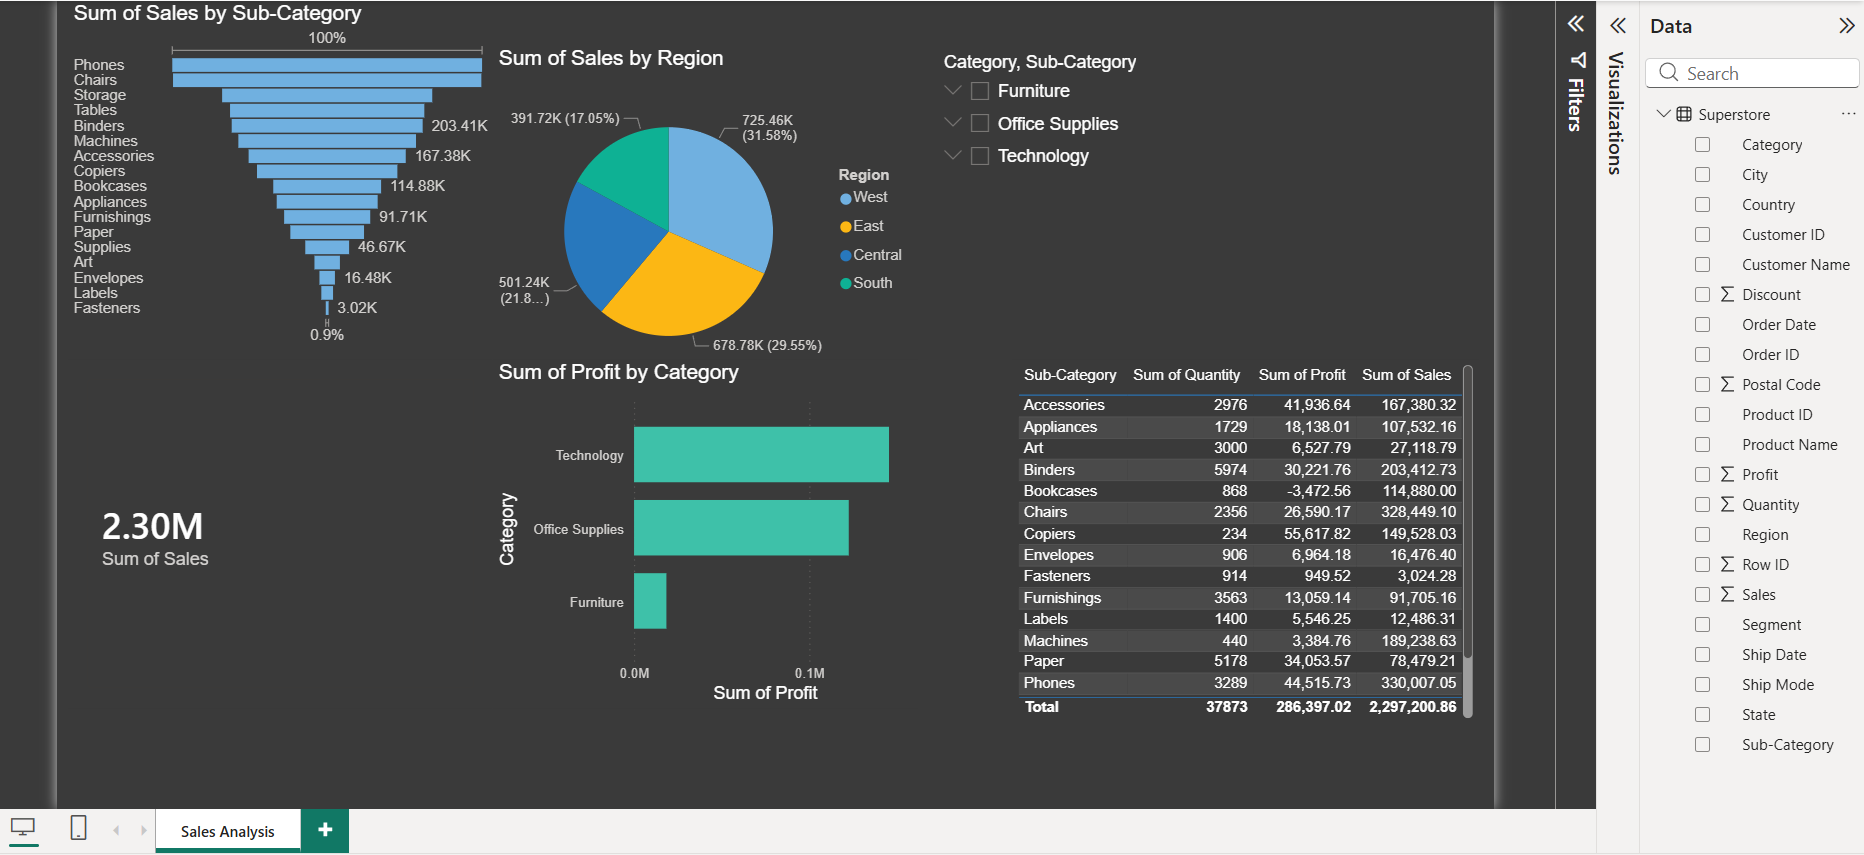

What the dashboard file says about the page in this screenshot:
{"tool":"powerbi","page":{"name":"Page 1","canvas":[1280,720],"ordinal":0},"visuals":[{"type":"funnel","fields":{"Category":["Superstore.Sub-Category"],"Y":["Sum(Superstore.Sales)"]},"box":[9.6,0,378.7,310.1],"z":0},{"type":"cardVisual","fields":{"Data":["Sum(Superstore.Sales)"]},"box":[10,320,379,310],"z":1},{"type":"pieChart","fields":{"Category":["Superstore.Region"],"Y":["Sum(Superstore.Sales)"]},"box":[388.3,39.8,378.7,310.1],"z":2},{"type":"barChart","fields":{"Category":["Superstore.Category"],"Y":["Sum(Superstore.Profit)"]},"box":[388.3,319.7,378.7,310.1],"z":3},{"type":"slicer","fields":{"Values":["Superstore.Category","Superstore.Sub-Category"]},"box":[776.7,39.8,489.9,279.9],"z":4},{"type":"tableEx","fields":{"Values":["Superstore.Sub-Category","Sum(Superstore.Quantity)","Sum(Superstore.Profit)","Sum(Superstore.Sales)"]},"box":[850.8,319.7,415.8,323.8],"z":5}]}

Visuals, with their boxes on the page's 1280x720 design canvas (x1, y1, x2, y2). These are canvas units, not pixel positions in the 1864x855 screenshot, which may show the page scaled, cropped or inside an application window:
funnel - Superstore.Sub-Category x Sum(Superstore.Sales): {"left": 10, "top": 0, "right": 388, "bottom": 310}
cardVisual - Sum(Superstore.Sales): {"left": 10, "top": 320, "right": 389, "bottom": 630}
pieChart - Superstore.Region x Sum(Superstore.Sales): {"left": 388, "top": 40, "right": 767, "bottom": 350}
barChart - Superstore.Category x Sum(Superstore.Profit): {"left": 388, "top": 320, "right": 767, "bottom": 630}
slicer - Superstore.Category x Superstore.Sub-Category: {"left": 777, "top": 40, "right": 1267, "bottom": 320}
tableEx - Superstore.Sub-Category x Sum(Superstore.Quantity): {"left": 851, "top": 320, "right": 1267, "bottom": 644}
